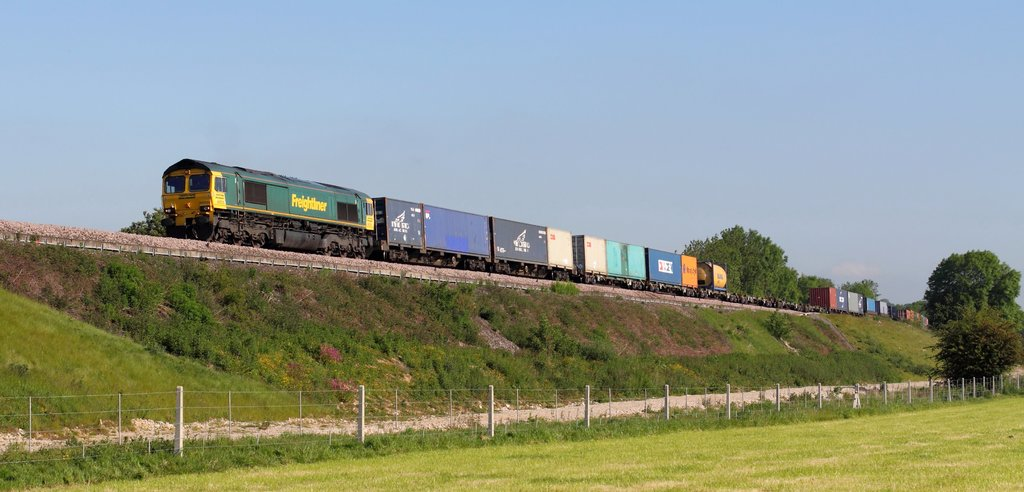train: (163, 156, 935, 320)
